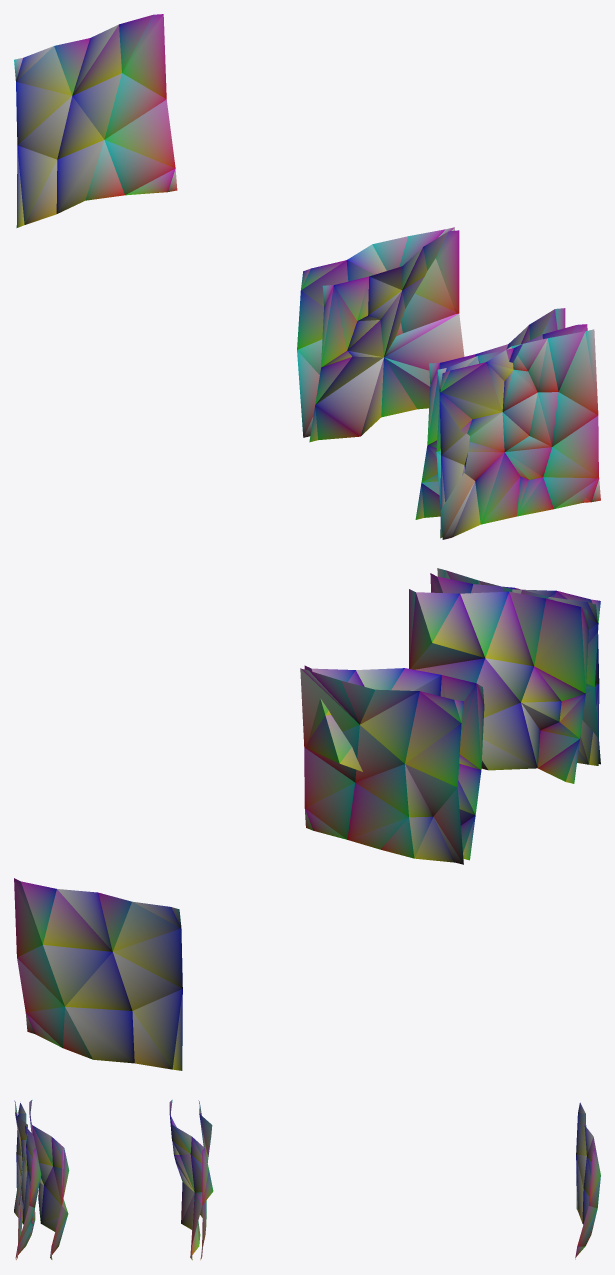
Rendered from ColumnInner.fbx.
3 views of the same model, one above another, from view 1: azimuth 30°, elevation 25°; view 2: azimuth 150°, elevation 25°; view 3: azimuth 270°, elevation 25° (orthographic). The views are drawn at different scales.
Visible parts, largest first — view 1: ColumnInner; view 2: ColumnInner; view 3: ColumnInner.
Boxes of the visible parts, x1,y1,x2,y2 form: ColumnInner: (14,14,600,539); ColumnInner: (14,568,600,1070); ColumnInner: (14,1099,600,1260).
Size of the model in its own units: 1 by 1 by 4.84.
